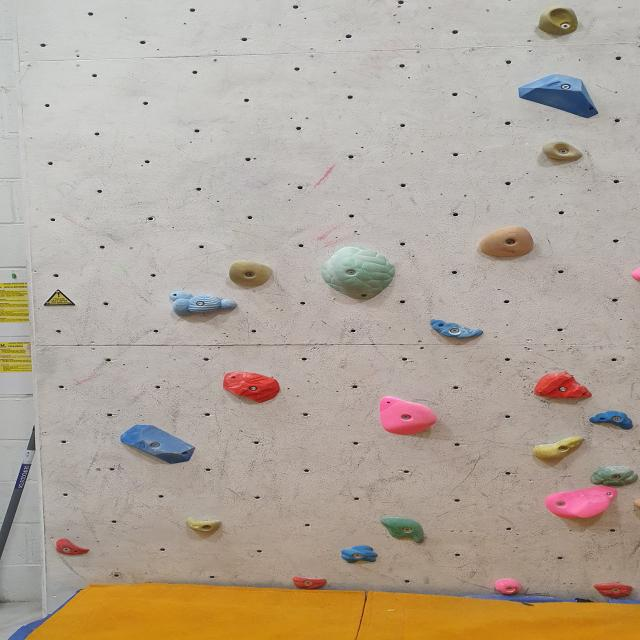Crimp: (118, 424, 196, 466), (524, 371, 596, 404), (221, 371, 283, 403), (588, 466, 638, 486), (429, 321, 485, 338), (590, 412, 636, 429), (54, 538, 92, 556), (593, 584, 635, 600), (186, 519, 225, 536), (339, 547, 379, 563), (495, 580, 524, 596), (291, 578, 329, 590)
Jug: (377, 398, 439, 437), (479, 228, 537, 260), (536, 8, 581, 39), (228, 261, 274, 289), (540, 141, 586, 163)
Pinch: (166, 289, 239, 318), (532, 438, 588, 464)
Sloper: (516, 72, 604, 125), (318, 245, 398, 299), (543, 486, 620, 519), (379, 517, 427, 542)
